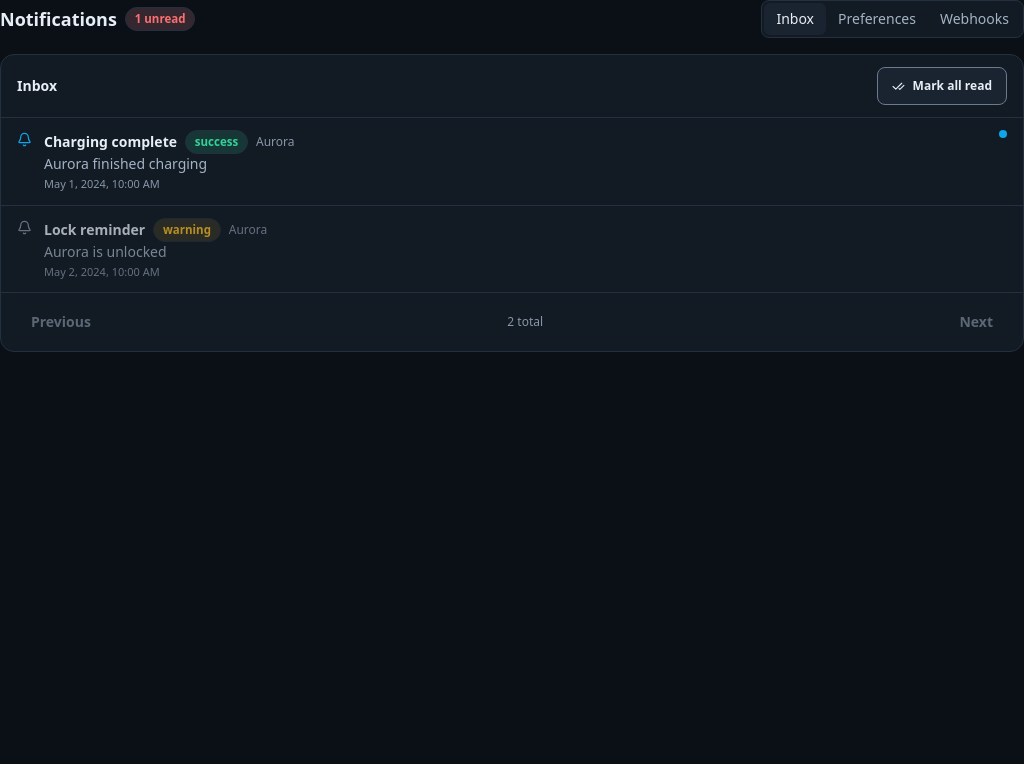
Scenario: NotificationsPage › enables browser push notifications
The image size is (1024, 764).
Click the tab "preferences" at [877, 19], box [826,3,928,35]
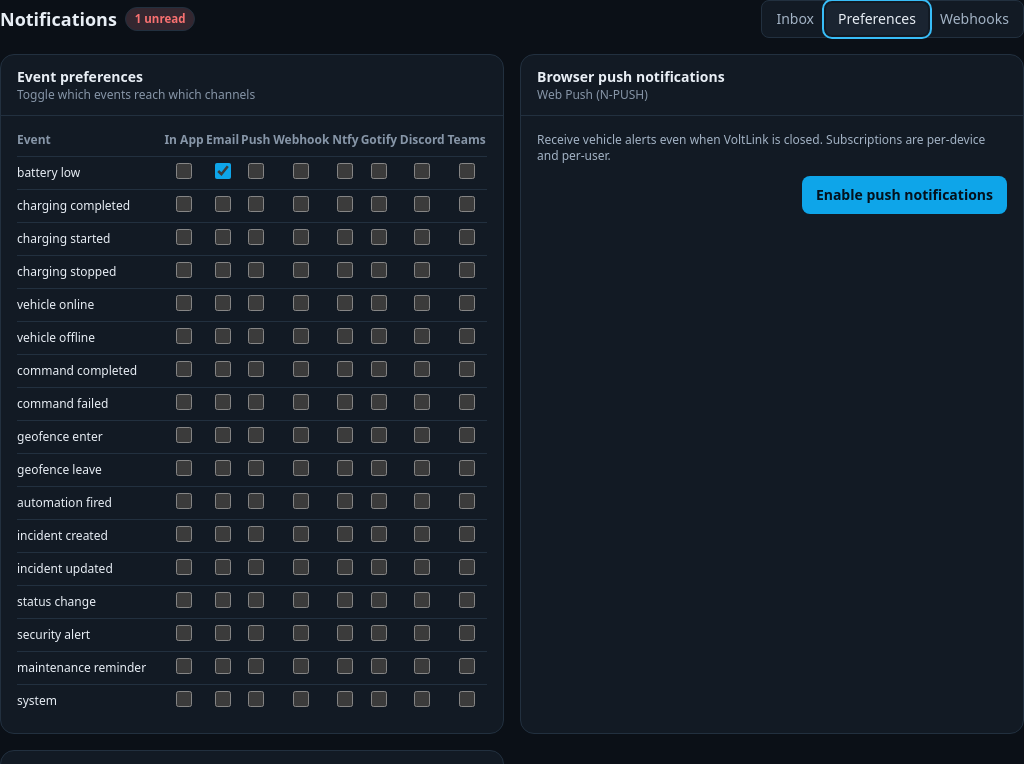
Click the button "Enable push notifications" at [904, 195], box [802,176,1007,214]
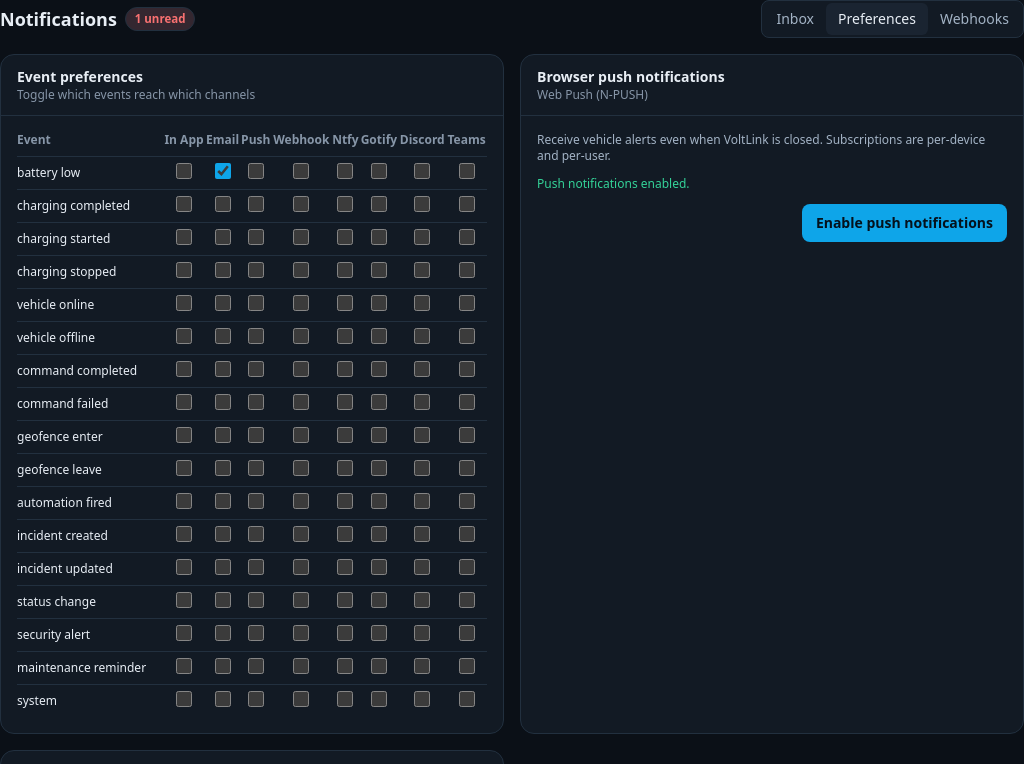
Expected: the text "Push notifications enabled." is shown, [537,175,690,192]
